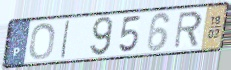5: (118, 14, 143, 54)
6: (145, 11, 173, 53)
9: (88, 16, 115, 58)
I: (59, 18, 73, 60)
O: (28, 22, 57, 61)
R: (172, 10, 204, 50)
